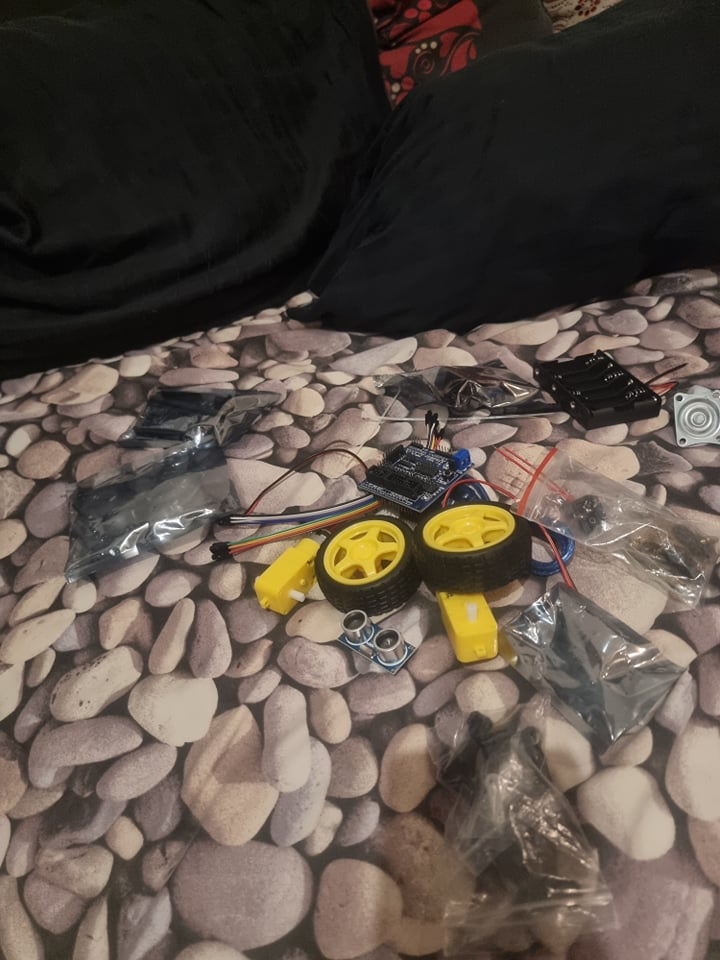5V EXPANSION: (357, 440, 475, 514)
BATTERY BOX: (534, 347, 664, 430)
SENSOR: (336, 610, 419, 676)
